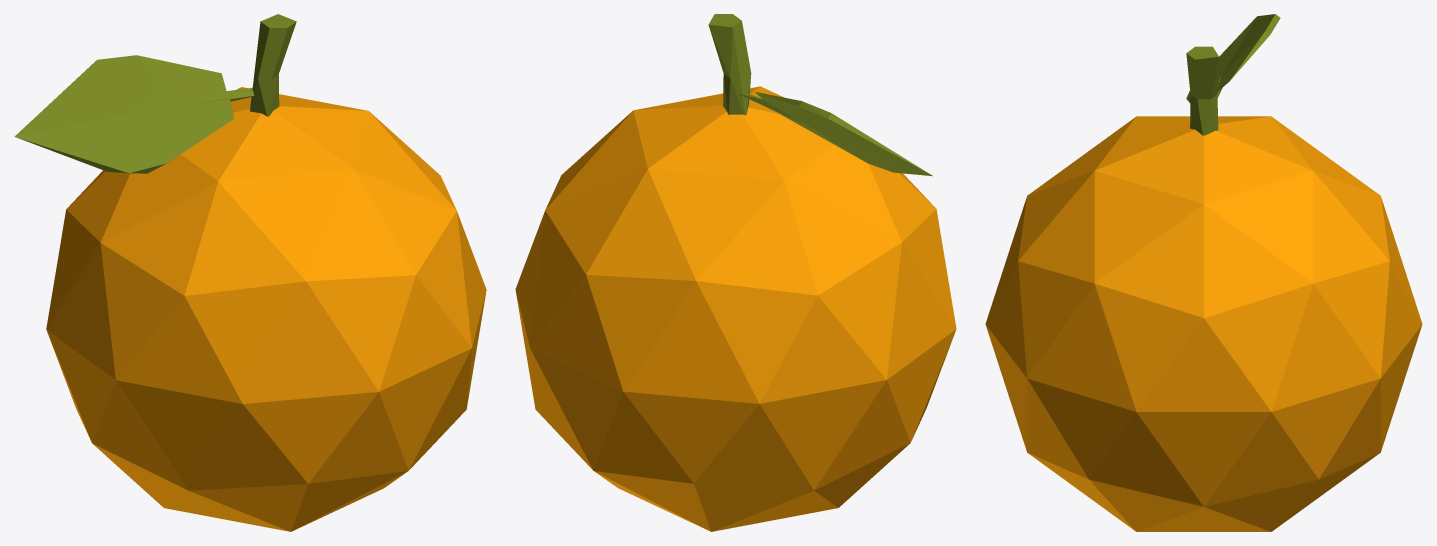
Rendered from Orange.fbx.
3 renders of one model, left to right at view 1: azimuth 30°, elevation 25°; view 2: azimuth 150°, elevation 25°; view 3: azimuth 270°, elevation 25°, orthographic. The views are drawn at different scales.
Visible parts, largest first — view 1: Orange; view 2: Orange; view 3: Orange.
Boxes of the visible parts, x1,y1,x2,y2 form: Orange: (14,14,486,531); Orange: (515,14,956,531); Orange: (985,14,1422,531).
Size of the model in its own units: 19.16 by 21.32 by 18.22.
